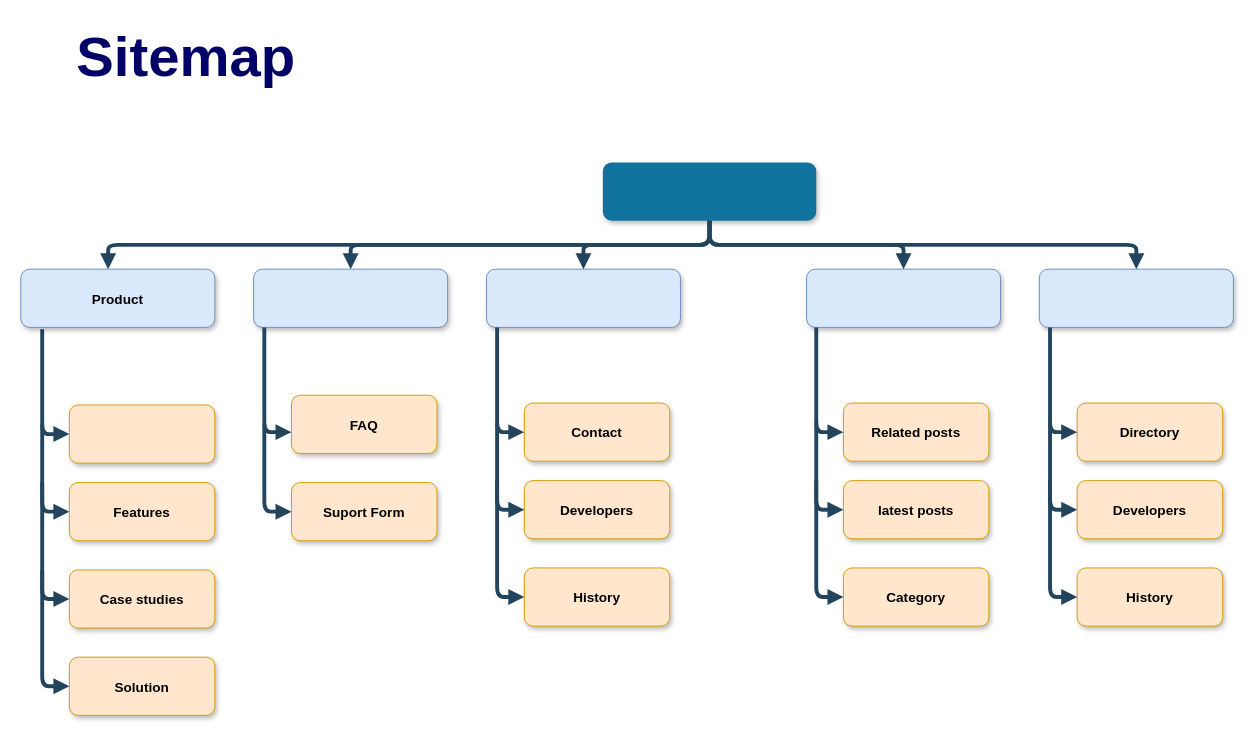
Some shapes in this 1256 by 739 pixel diagram are drawn without their labels. Here are the shapes that lost their labels. From the top down, the centre of each, then its label:
At [710,192]: "Home".
At [351,299]: "Suport".
At [584,299]: "About us".
At [904,299]: "Blog".
At [1137,299]: "Members".
At [143,435]: "Free trial".
